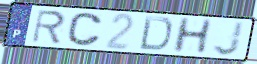2: (104, 13, 137, 51)
C: (65, 12, 104, 48)
D: (137, 14, 174, 52)
H: (170, 16, 215, 54)
J: (212, 20, 246, 57)
R: (31, 9, 68, 45)
